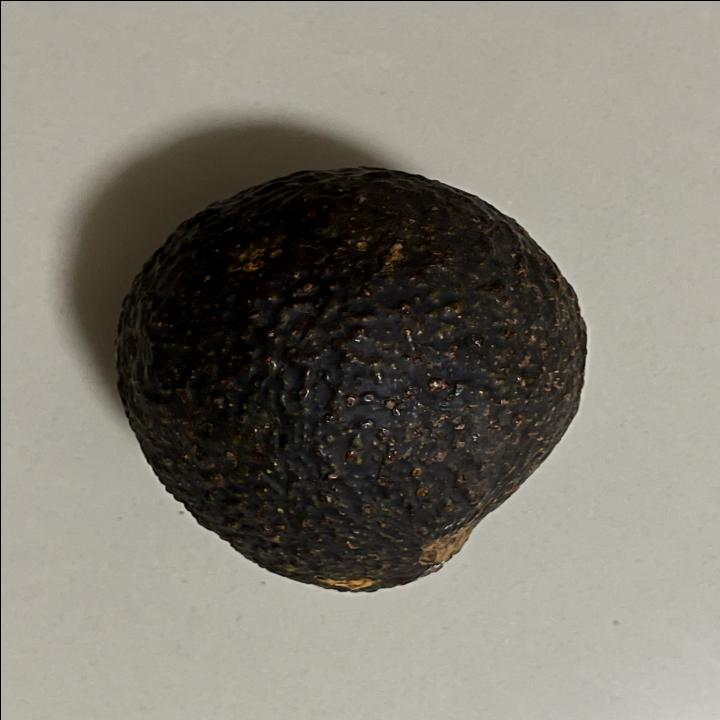Level2: (107, 161, 594, 595)
